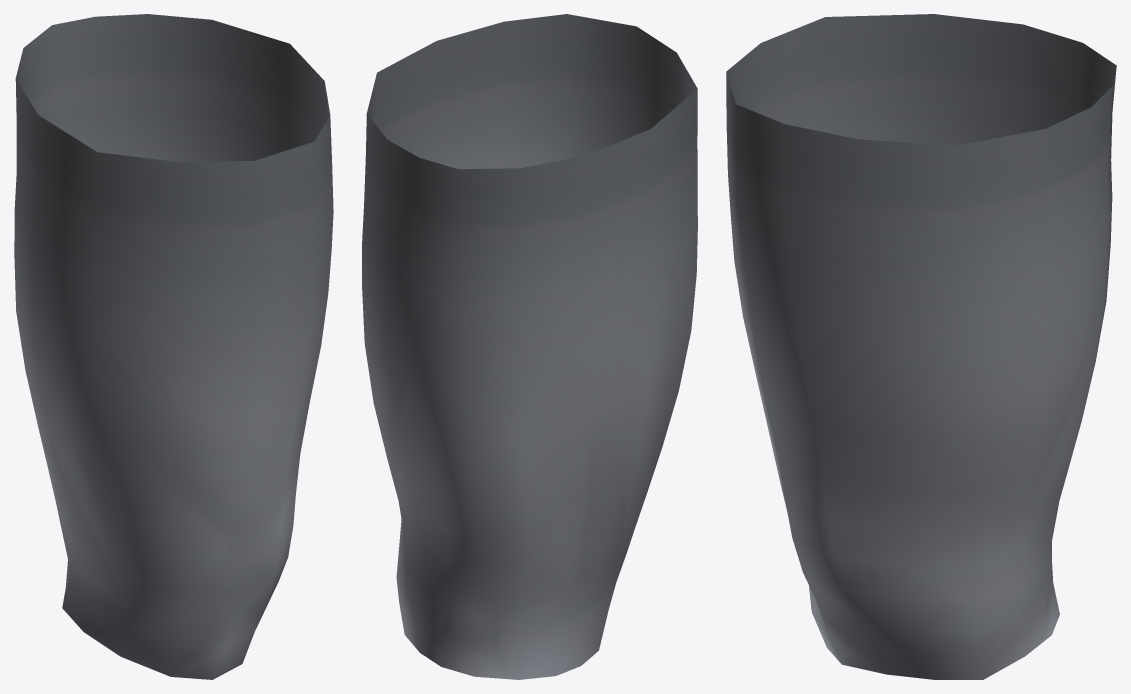
File: Bote_PiernaDer.obj
The picture shows the model from 3 angles, left to right: view 1: azimuth 30°, elevation 25°; view 2: azimuth 150°, elevation 25°; view 3: azimuth 270°, elevation 25°; orthographic projection. The views are drawn at different scales.
Parts seen in each view (by area): view 1: Object006; view 2: Object006; view 3: Object006.
Part boxes in pixels (x1=…): Object006: x1=14, y1=14, x2=333, y2=679; Object006: x1=362, y1=14, x2=697, y2=679; Object006: x1=726, y1=14, x2=1116, y2=679.
Size of the model in its own units: 0.6612 by 1.31 by 0.8072.
